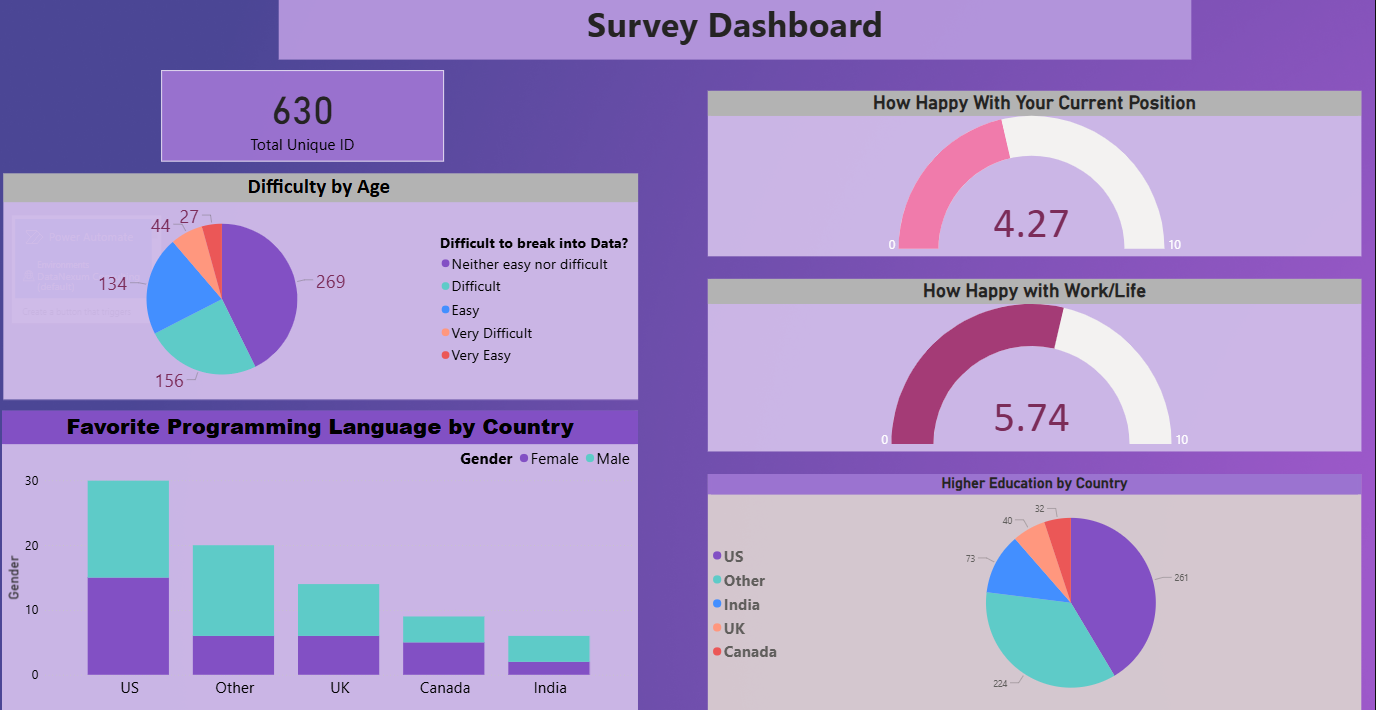

This screenshot's page, from the dashboard's own definition file:
{"tool":"powerbi","page":{"name":"Page 1","canvas":[1920,1000],"ordinal":0},"visuals":[{"type":"textbox","box":[393.3,0,1270,88.3],"z":0},{"type":"card","fields":{"Values":["Count(Data Professional Survey.Unique ID)"]},"box":[230,103.3,393.3,126.7],"z":1000},{"type":"pieChart","title":"Higher Education by Country","fields":{"Category":["Data Professional Survey.Q11 - Which Country do you live in?.1"],"Y":["CountNonNull(Data Professional Survey.Q12 - Highest Level of Education)"]},"box":[990,665,910,335],"z":2000},{"type":"columnChart","title":"Favorite Programming Language by Country","fields":{"Y":["Count(Data Professional Survey.Q5 - Favorite Programming Language)"],"Category":["Data Professional Survey.Q11 - Which Country do you live in?.1"],"Series":["Data Professional Survey.Q9 - Male/Female?"]},"box":[8.3,576.7,885,423.3],"z":3000},{"type":"FlowVisual_C29F1DCC_81F5_4973_94AD_0517D44CC06A","box":[22,304.5,208,150],"z":4000},{"type":"gauge","title":"How Happy with Work/Life ","fields":{"Y":["Avg(Data Professional Survey.Q6 - How Happy are you in your Current Position with the following? (Work/Life Balance))"],"MinValue":["Min(Data Professional Survey.Q6 - How Happy are you in your Current Position with the following? (Work/Life Balance))"],"MaxValue":["Max(Data Professional Survey.Q6 - How Happy are you in your Current Position with the following? (Work/Life Balance))1"]},"box":[990,393.3,910,240],"z":5000},{"type":"gauge","title":"How Happy With Your Current Position","fields":{"Y":["Avg(Data Professional Survey.Q6 - How Happy are you in your Current Position with the following? (Salary))"],"MinValue":["Min(Data Professional Survey.Q6 - How Happy are you in your Current Position with the following? (Salary))"],"MaxValue":["Max(Data Professional Survey.Q6 - How Happy are you in your Current Position with the following? (Salary))"]},"box":[990,131.7,910,230],"z":6000},{"type":"pieChart","title":"Difficulty by Age","fields":{"Category":["Data Professional Survey.Q7 - How difficult was it for you to break into Data?"],"Y":["CountNonNull(Data Professional Survey.Q10 - Current Age)"]},"box":[10,246.7,883.3,315],"z":7000}]}

Visuals, with their boxes in screenshot pixels (x1, y1, x2, y2), scaled from the page's 1920x1000 canvas onto the 1376x710 screenshot:
textbox: x1=282, y1=0, x2=1192, y2=63
card - Count(Data Professional Survey.Unique ID): x1=165, y1=73, x2=447, y2=163
"Higher Education by Country" pieChart: x1=710, y1=472, x2=1362, y2=709
"Favorite Programming Language by Country" columnChart: x1=6, y1=409, x2=640, y2=709
FlowVisual_C29F1DCC_81F5_4973_94AD_0517D44CC06A: x1=16, y1=216, x2=165, y2=323
"How Happy with Work/Life " gauge: x1=710, y1=279, x2=1362, y2=450
"How Happy With Your Current Position" gauge: x1=710, y1=94, x2=1362, y2=257
"Difficulty by Age" pieChart: x1=7, y1=175, x2=640, y2=399
